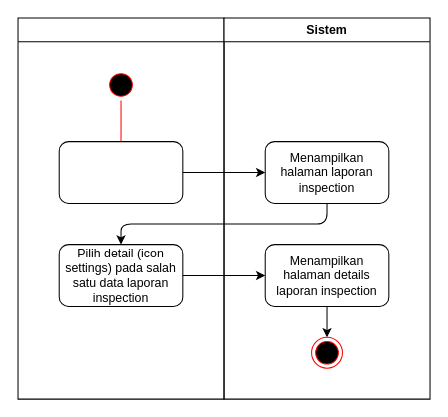
Image size: 448x417. Some labels were removed from this diagram. Each missing label, with the box of its shape:
Pilih fitur laporan inspection: (58, 141, 183, 203)
User: (17, 17, 224, 399)
